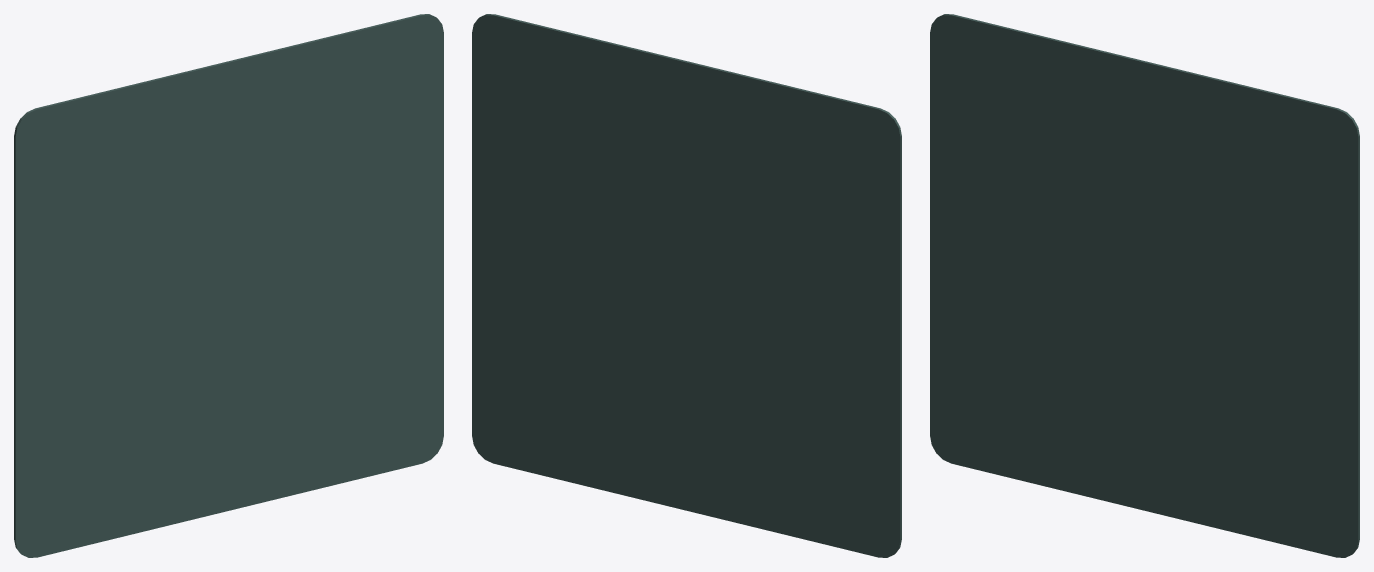
File: pond-1.glb
3 views of the same model, side by side, from view 1: azimuth 30°, elevation 25°; view 2: azimuth 150°, elevation 25°; view 3: azimuth 330°, elevation 25° (orthographic).
Parts seen in each view (by area): view 1: world; view 2: world; view 3: world.
Boxes of the visible parts, x1,y1,x2,y2 form: world: [14, 14, 443, 557]; world: [472, 14, 901, 557]; world: [930, 14, 1359, 557].
Bounding box in the file's own units: 40 × 40 × 0.25.
